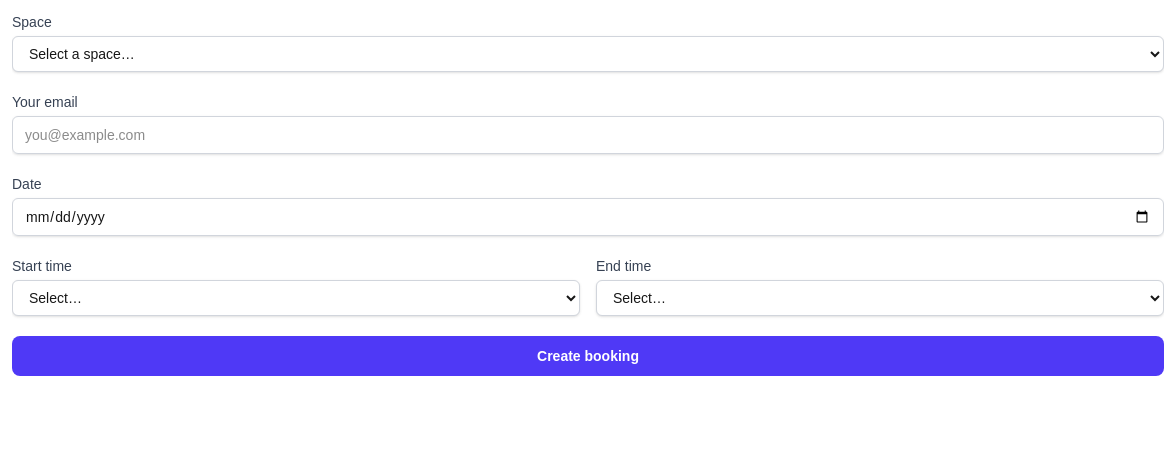
Test case: CreateBookingForm › shows validation error for invalid email
The image size is (1176, 473).
Step 1. Type "not-an-email" into the field labelled "Your email" → {"x": 588, "y": 135}, box [12,116,1164,154]
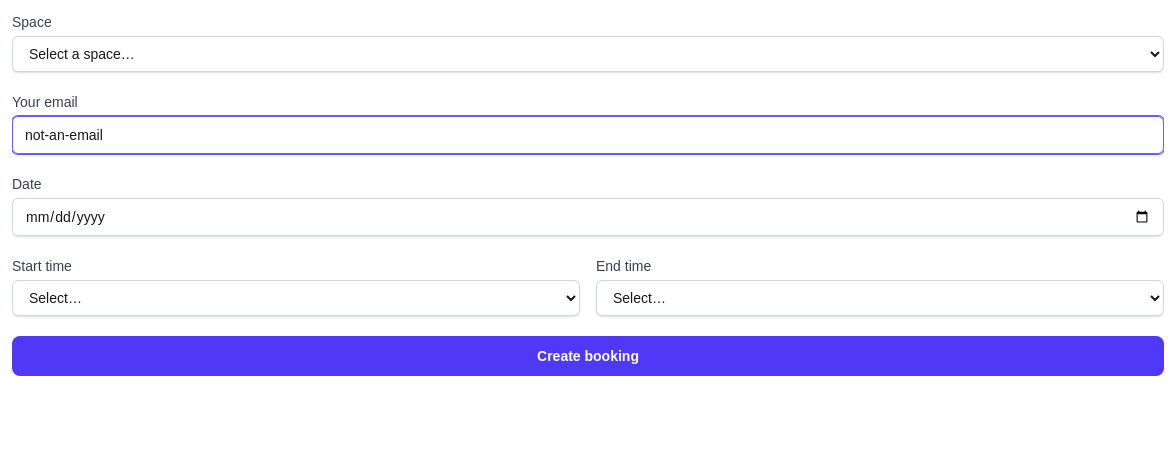
Step 2. Click the button "Create booking" → {"x": 588, "y": 356}, box [12,336,1164,376]
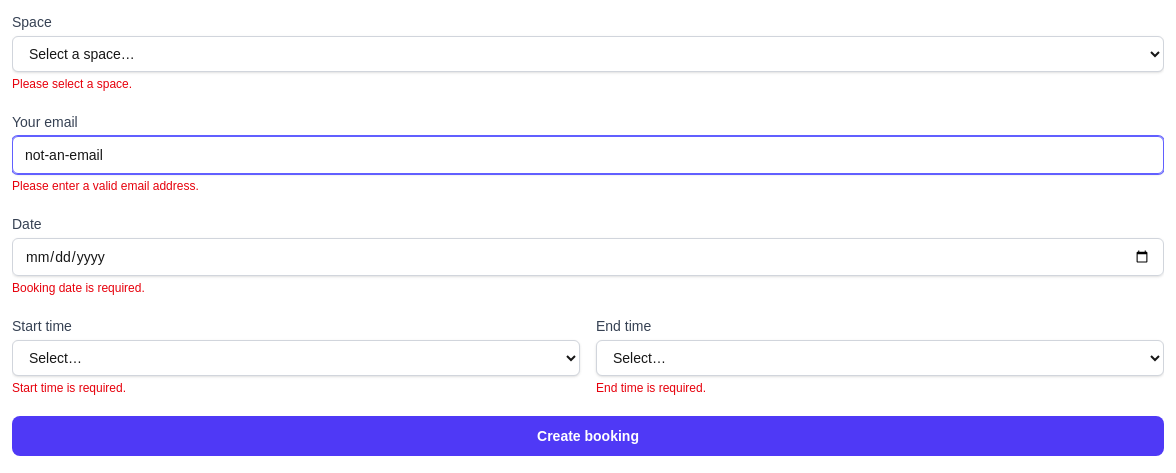
Check: the text "Please enter a valid email address." is shown, box [12,179,199,193]
